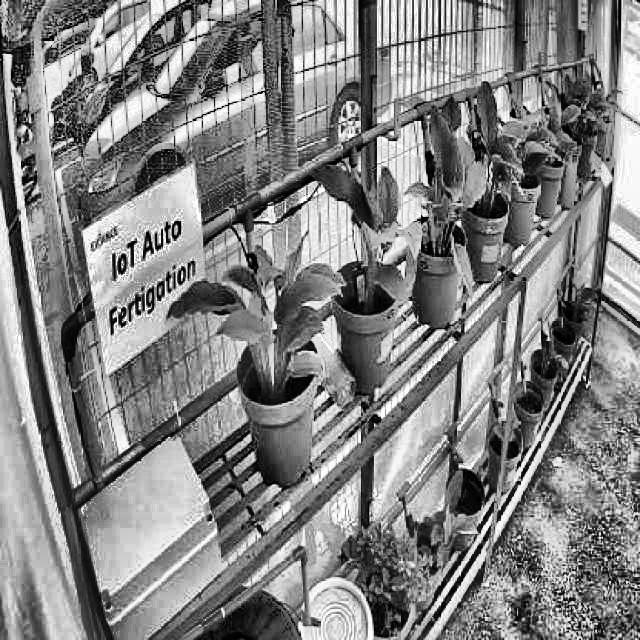plants: (166, 226, 346, 399), (396, 91, 489, 302), (312, 150, 423, 310), (444, 80, 522, 226)
